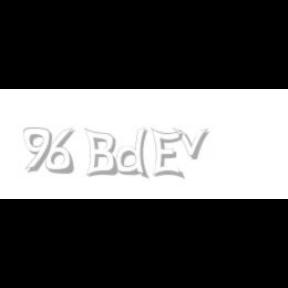6: (46, 128, 74, 176)
9: (24, 128, 53, 172)
B: (84, 128, 118, 178)
E: (151, 128, 184, 180)
d: (116, 128, 152, 180)
v: (173, 128, 213, 160)
